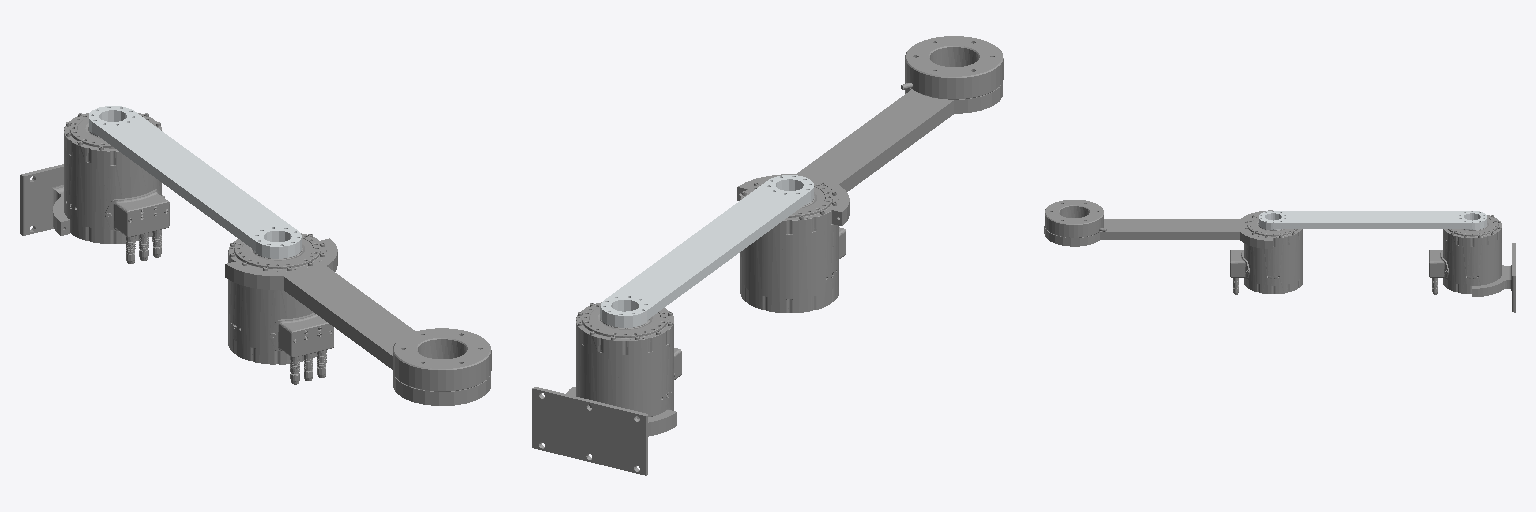
URDF robot description (two_link):
<?xml version="1.0" encoding="utf-8"?>
<!-- This URDF was automatically created by SolidWorks to URDF Exporter! Originally created by [author] ([email redacted]) 
     Commit Version: 1.5.0-0-g9aa0fdb  Build Version: 1.5.7004.21443
     For more information, please see http://wiki.ros.org/sw_urdf_exporter -->
<robot
  name="two_link">
  <link
    name="base_link">
    <inertial>
      <origin
        xyz="-1.9536E-08 0.0088431 0.037629"
        rpy="0 0 0" />
      <mass
        value="0.77887" />
      <inertia
        ixx="0.0015096"
        ixy="-1.0345E-08"
        ixz="-2.4176E-10"
        iyy="0.0011768"
        iyz="0.00024377"
        izz="0.0013264" />
    </inertial>
    <visual>
      <origin
        xyz="0 0 0"
        rpy="0 0 0" />
      <geometry>
        <mesh
          filename="package://two_link/meshes/base_link.STL" />
      </geometry>
      <material
        name="">
        <color
          rgba="0.64706 0.64706 0.64706 1" />
      </material>
    </visual>
    <collision>
      <origin
        xyz="0 0 0"
        rpy="0 0 0" />
      <geometry>
        <mesh
          filename="package://two_link/meshes/base_link.STL" />
      </geometry>
    </collision>
  </link>
  <link
    name="Link1">
    <inertial>
      <origin
        xyz="-4.1277E-15 -0.15 0.10285"
        rpy="0 0 0" />
      <mass
        value="0.38623" />
      <inertia
        ixx="0.0033546"
        ixy="-1.0318E-16"
        ixz="-1.8435E-21"
        iyy="7.0388E-05"
        iyz="-2.9513E-19"
        izz="0.0034178" />
    </inertial>
    <visual>
      <origin
        xyz="0 0 0"
        rpy="0 0 0" />
      <geometry>
        <mesh
          filename="package://two_link/meshes/Link1.STL" />
      </geometry>
      <material
        name="">
        <color
          rgba="0.89804 0.91765 0.92941 1" />
      </material>
    </visual>
    <collision>
      <origin
        xyz="0 0 0"
        rpy="0 0 0" />
      <geometry>
        <mesh
          filename="package://two_link/meshes/Link1.STL" />
      </geometry>
    </collision>
  </link>
  <joint
    name="joint1"
    type="revolute">
    <origin
      xyz="0 0 0"
      rpy="0 0 0" />
    <parent
      link="base_link" />
    <child
      link="Link1" />
    <axis
      xyz="0 0 1" />
    <limit
      lower="0"
      upper="0"
      effort="0"
      velocity="0" />
    <safety_controller
      k_velocity="0" />
  </joint>
  <link
    name="Link2">
    <inertial>
      <origin
        xyz="5.2551E-06 -0.37963 -0.045832"
        rpy="0 0 0" />
      <mass
        value="0.93375" />
      <inertia
        ixx="0.014681"
        ixy="8.6072E-07"
        ixz="-1.7615E-07"
        iyy="0.0014073"
        iyz="0.0022958"
        izz="0.014207" />
    </inertial>
    <visual>
      <origin
        xyz="0 0 0"
        rpy="0 0 0" />
      <geometry>
        <mesh
          filename="package://two_link/meshes/Link2.STL" />
      </geometry>
      <material
        name="">
        <color
          rgba="0.64706 0.64706 0.64706 1" />
      </material>
    </visual>
    <collision>
      <origin
        xyz="0 0 0"
        rpy="0 0 0" />
      <geometry>
        <mesh
          filename="package://two_link/meshes/Link2.STL" />
      </geometry>
    </collision>
  </link>
  <joint
    name="joint2"
    type="revolute">
    <origin
      xyz="0 0 0.10805"
      rpy="0 0 0" />
    <parent
      link="Link1" />
    <child
      link="Link2" />
    <axis
      xyz="0 0 1" />
    <limit
      lower="0"
      upper="0"
      effort="0"
      velocity="0" />
    <safety_controller
      k_velocity="0" />
  </joint>
</robot>

--- Render facts (derived) ---
3 views of the same robot in one strip: view 1: azimuth 30°, elevation 25°; view 2: azimuth 150°, elevation 25°; view 3: azimuth 270°, elevation 25° (orthographic).
Robot: two_link — 3 links, 2 joints (2 revolute); root link base_link; default pose: all joints at 0.
Visible links, largest first — view 1: Link2, base_link, Link1; view 2: Link2, base_link, Link1; view 3: Link2, base_link, Link1.
Boxes of the visible links, <box> form: Link2: <box>225,233,491,405</box>; base_link: <box>20,113,169,263</box>; Link1: <box>89,106,301,258</box>; Link2: <box>737,36,1003,312</box>; base_link: <box>532,302,681,475</box>; Link1: <box>600,175,813,327</box>; Link2: <box>1044,200,1302,294</box>; base_link: <box>1429,215,1515,312</box>; Link1: <box>1259,211,1486,229</box>.
Size in the robot's own frame: 0.12 by 0.71 by 0.1394 metres.
Meshes: 3 distinct files referenced, 3 mesh visuals loaded (3 binary STL).